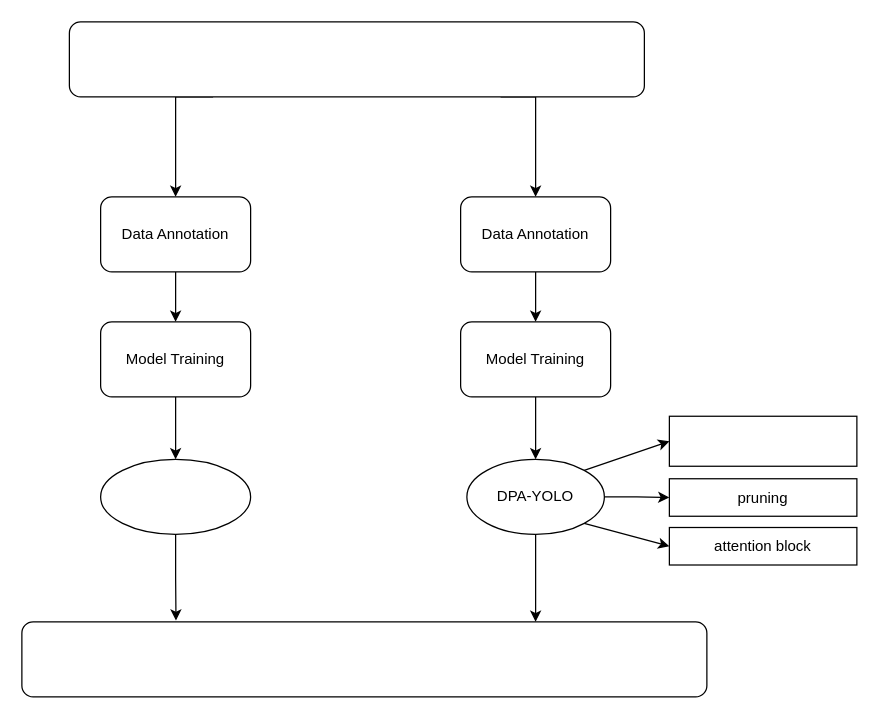
This 879x719 diagram has some shape labels left out. The box of each missing label's shape, as (x1, y1, x2, y2) in pixels:
Baseline YOLOv3: (99, 458, 251, 534)
Data Collection: (68, 21, 644, 97)
depthwise separable convolutions: (668, 415, 857, 466)
Model Testing and Evaluation: (21, 621, 707, 697)
